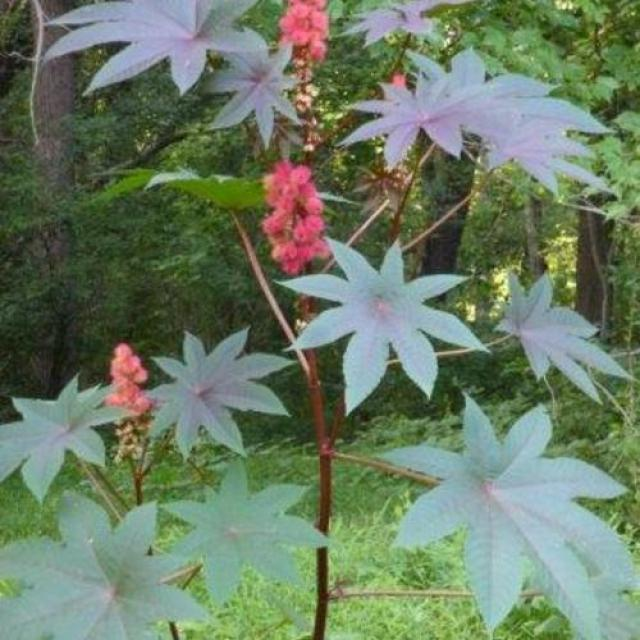Castor Oil Plant: (392, 425, 640, 640), (60, 0, 330, 189), (352, 68, 604, 221), (202, 470, 417, 640), (4, 494, 237, 640), (483, 255, 637, 394), (297, 256, 454, 390), (135, 334, 290, 450), (216, 154, 356, 282), (101, 331, 199, 486), (5, 370, 121, 495), (286, 0, 349, 95)
